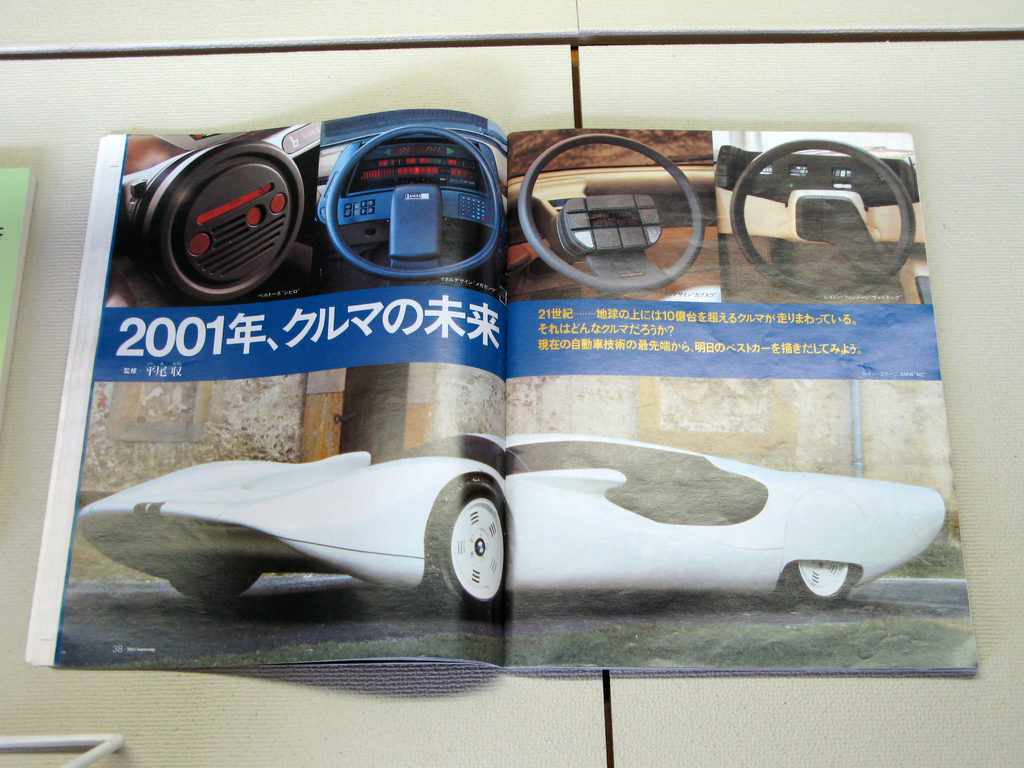Car: (77, 431, 943, 611)
